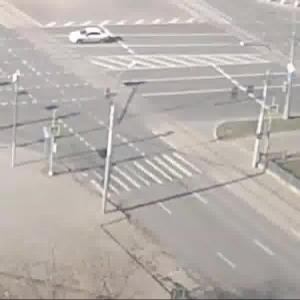car: (69, 27, 111, 48)
